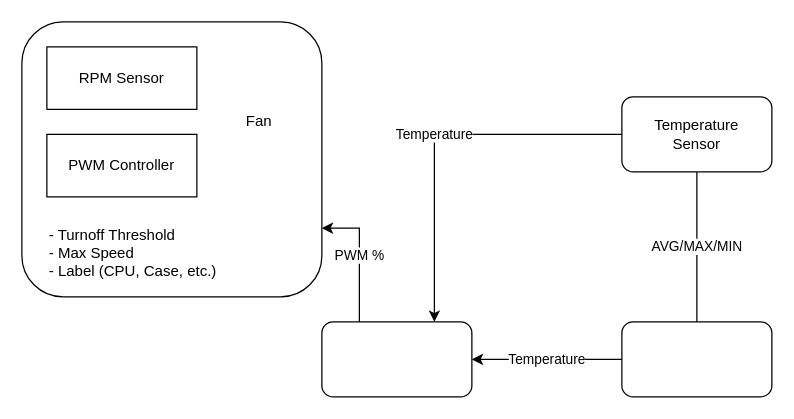
The diagram is 794 pixels wide and 419 high, and some of its shapes have lost their labels. Here are the shapes that lost their labels. From the top down, the centre of each, then its label:
point (396, 359): Fan Curve
point (696, 359): Composite Sensor
